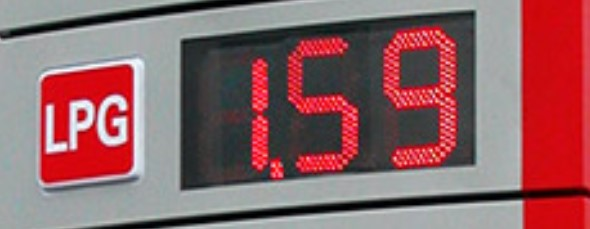digits: (375, 15, 466, 170), (198, 32, 276, 183), (281, 30, 362, 171)
